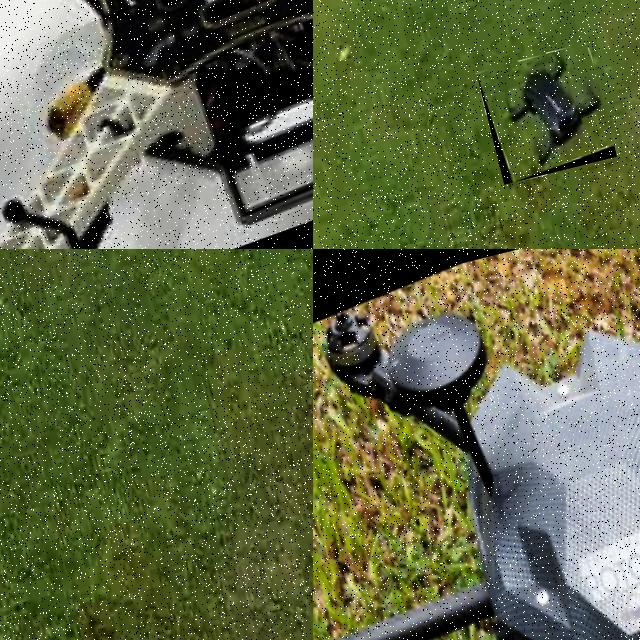0: (476, 43, 616, 184)
drone: (313, 249, 640, 640), (0, 0, 313, 249)
